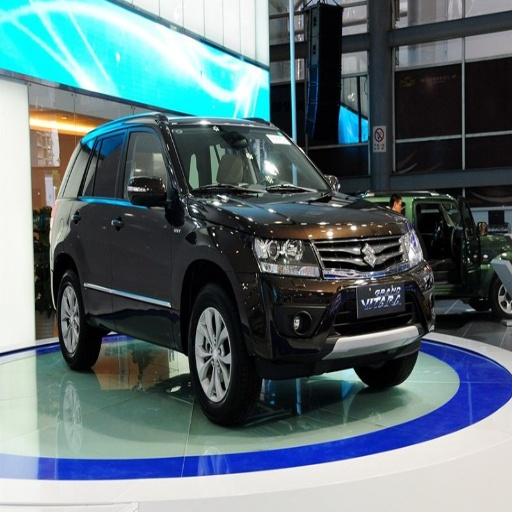front_bumper: (240, 235, 430, 365)
front_right_door: (112, 123, 172, 314)
front_right_light: (254, 237, 317, 276)
